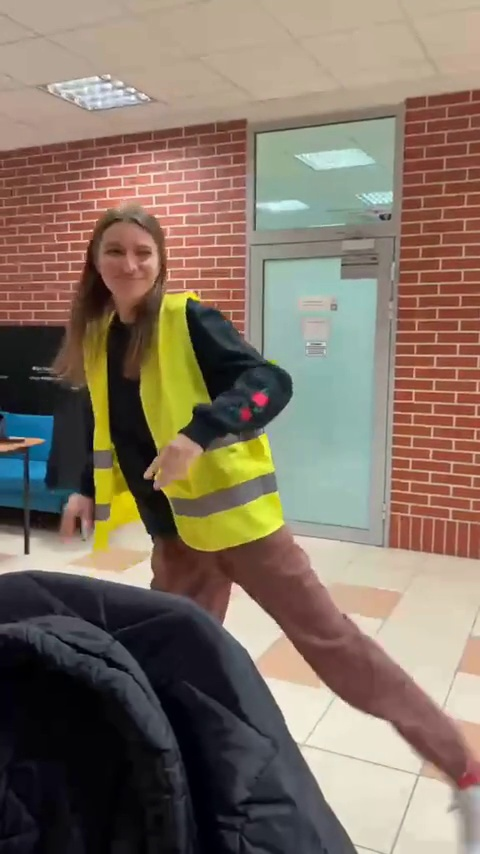vest: (69, 208, 408, 716)
